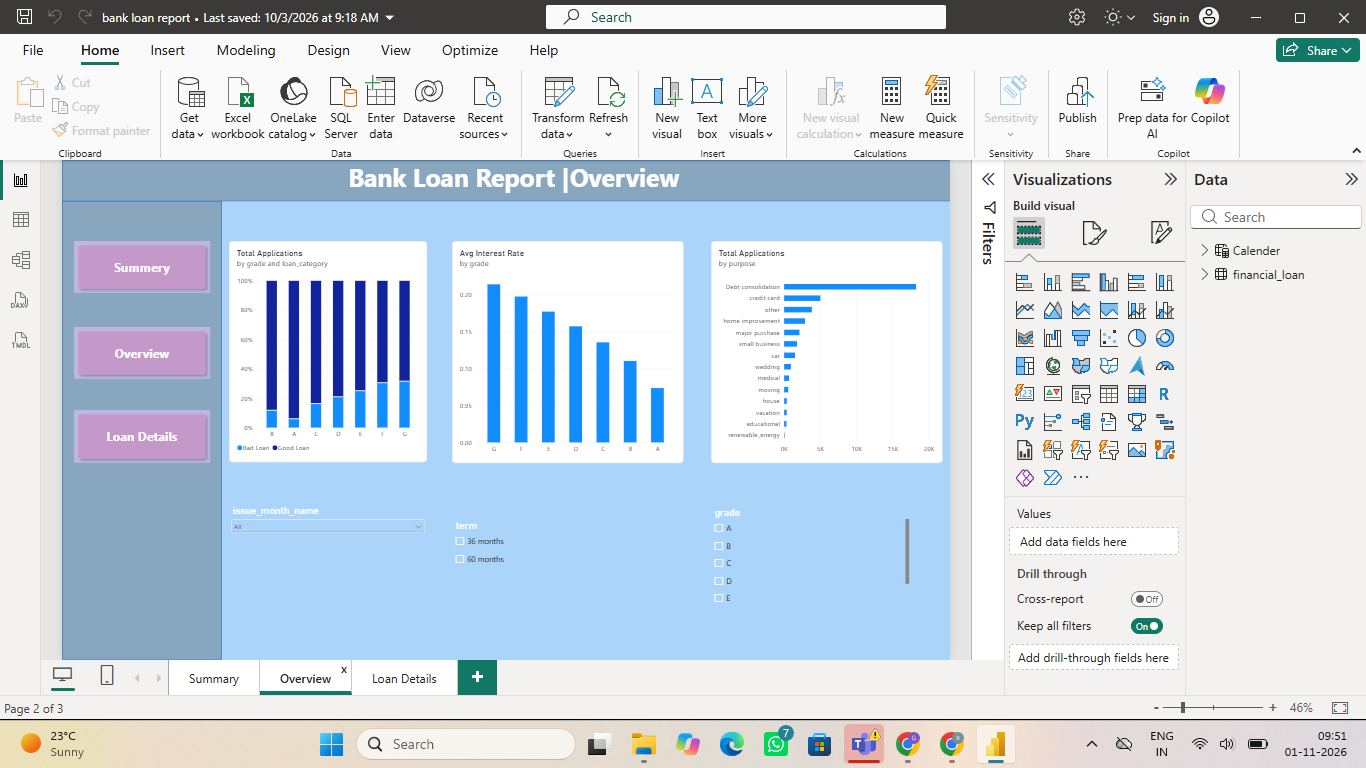

The dashboard page shown, as its layout file describes it:
{"tool":"powerbi","page":{"name":"Overview","canvas":[1920,1080],"ordinal":1},"visuals":[{"type":"barChart","fields":{"Category":["financial_loan.purpose"],"Y":["financial_loan.Total Applications"]},"box":[1402,174,500,480],"z":0},{"type":"columnChart","fields":{"Y":["financial_loan.Avg Interest Rate"],"Category":["financial_loan.grade"]},"box":[842,174,500,480],"z":1000},{"type":"hundredPercentStackedColumnChart","fields":{"Category":["financial_loan.grade"],"Series":["financial_loan.loan_category"],"Y":["financial_loan.Total Applications"]},"box":[360,174,428,478],"z":2000},{"type":"shape","box":[0,88.6,345.6,991.4],"z":3000},{"type":"actionButton","box":[25.9,175,293.8,112.3],"z":4000},{"type":"actionButton","box":[25.9,360.7,293.8,112.3],"z":5000},{"type":"actionButton","box":[25.9,540,293.8,114.5],"z":6000},{"type":"shape","box":[0,0,1920,89.1],"z":7000},{"type":"textbox","box":[346,0,1260,88],"z":8000},{"type":"slicer","fields":{"Values":["financial_loan.issue_month_name"]},"box":[360,745,428,116],"z":9000},{"type":"slicer","fields":{"Values":["financial_loan.term"]},"box":[842.5,777.5,500,102.5],"z":10000},{"type":"slicer","fields":{"Values":["financial_loan.grade"]},"box":[1402.5,750,428,219],"z":11000}]}

Visuals, with their boxes on the page's 1920x1080 design canvas (x1, y1, x2, y2). These are canvas units, not pixel positions in the 1366x768 screenshot, which may show the page scaled, cropped or inside an application window:
barChart - financial_loan.purpose x financial_loan.Total Applications: (1402,174,1902,654)
columnChart - financial_loan.Avg Interest Rate x financial_loan.grade: (842,174,1342,654)
hundredPercentStackedColumnChart - financial_loan.grade x financial_loan.loan_category: (360,174,788,652)
shape: (0,89,346,1080)
actionButton: (26,175,320,287)
actionButton: (26,361,320,473)
actionButton: (26,540,320,654)
shape: (0,0,1920,89)
textbox: (346,0,1606,88)
slicer - financial_loan.issue_month_name: (360,745,788,861)
slicer - financial_loan.term: (842,778,1342,880)
slicer - financial_loan.grade: (1402,750,1830,969)
